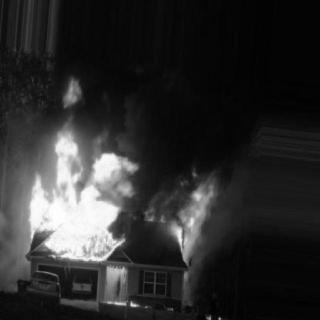Fire: (20, 76, 131, 266), (151, 166, 215, 262), (100, 266, 188, 312)
Smoke: (127, 17, 284, 119)
